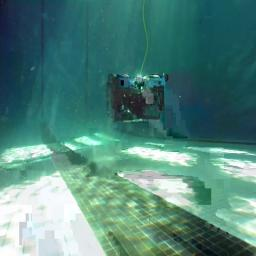front: (106, 71, 168, 125)
